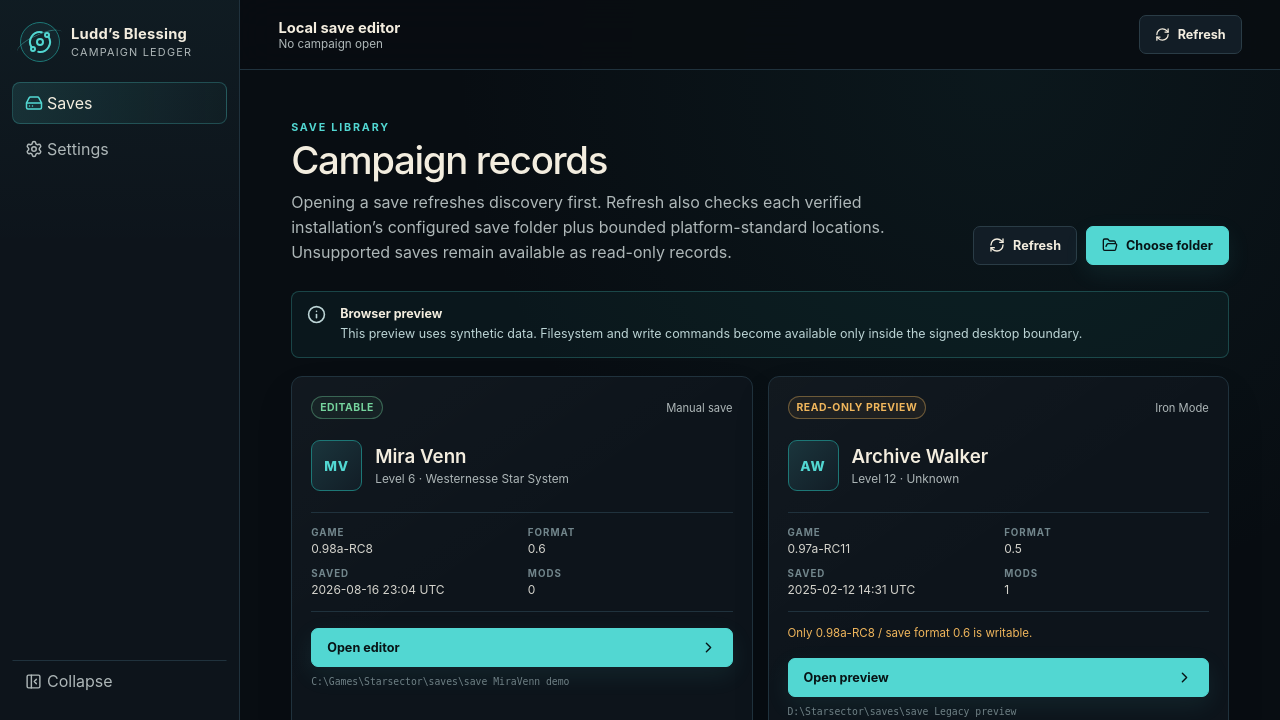
Test: Ludd’s Blessing app shell › focuses colonies on editable holdings and reviews a storage-stack change
Click the button "Open editor" at (363, 648), box top-left (311, 628), bottom-right (732, 667)
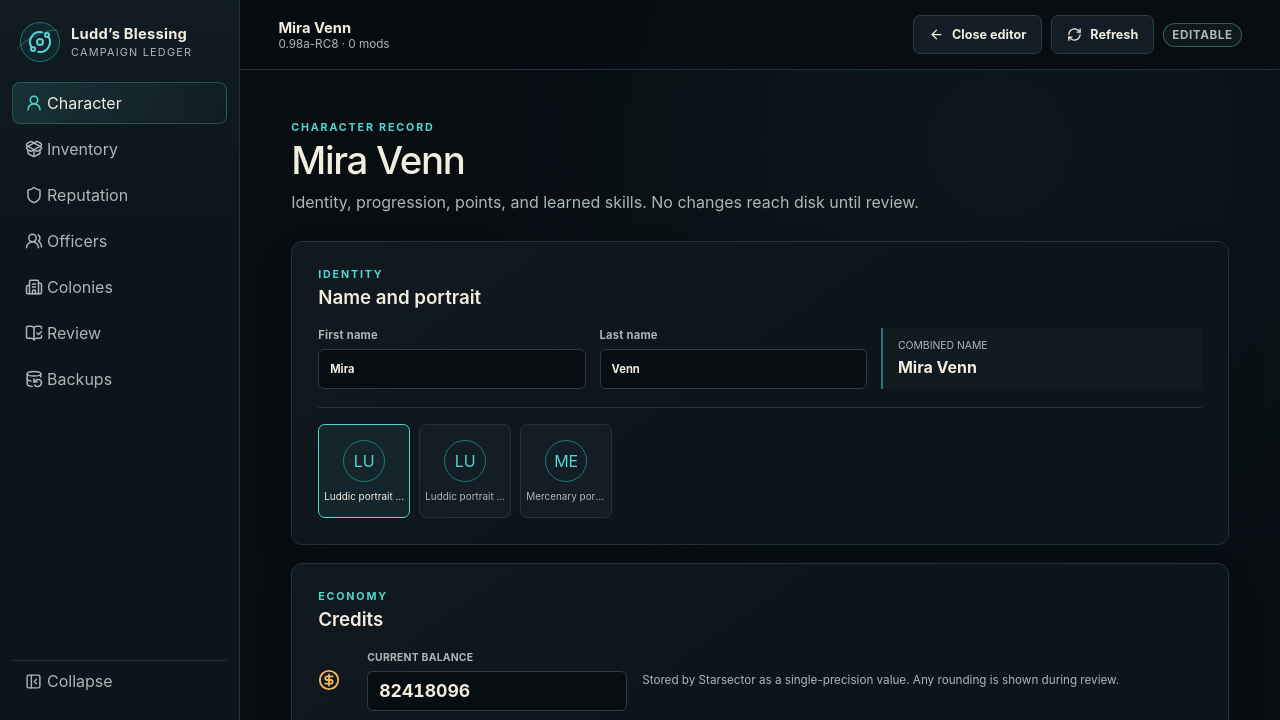
Expected: the heading "Name and portrait" is shown, top-left (318, 286), bottom-right (481, 309)
Click the button "Colonies" at (120, 287), box top-left (12, 266), bottom-right (227, 308)
(page scrolled)
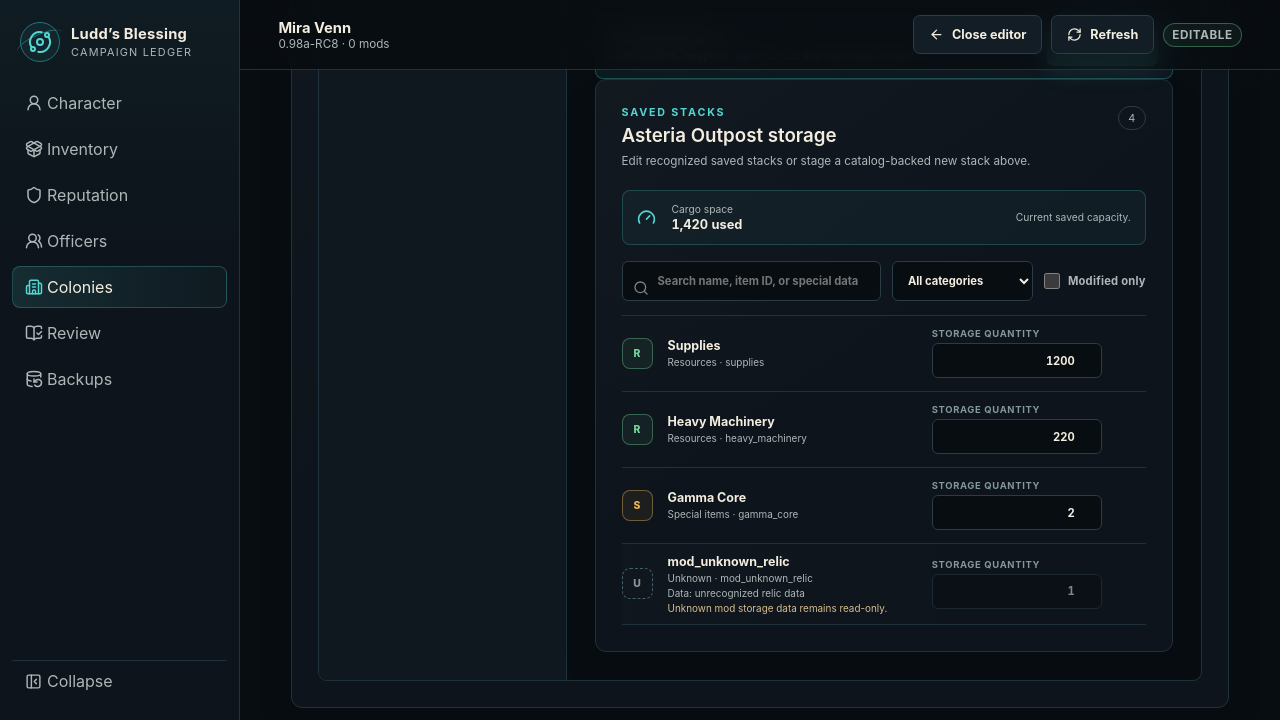
Replace the text in the number field named "Supplies quantity" with "1201" at (1017, 360), box top-left (932, 343), bottom-right (1102, 378)
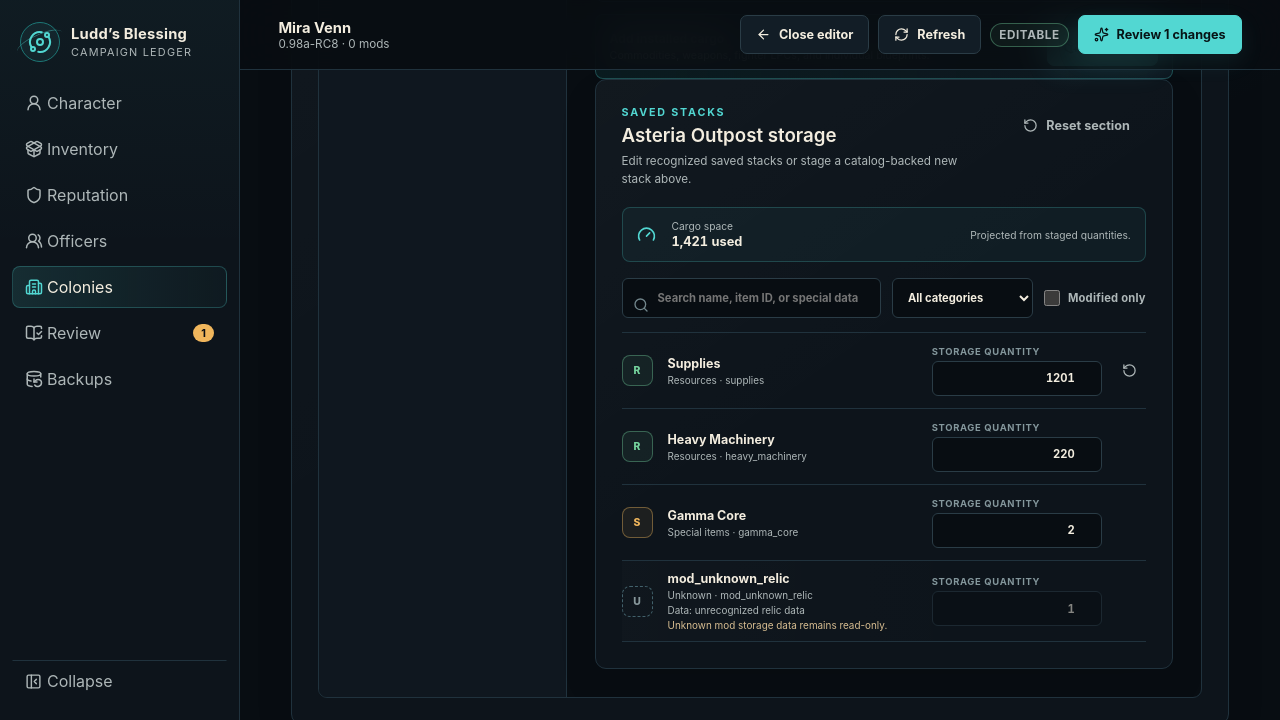
Click the button "Review 1 changes" at (1160, 34), box top-left (1078, 15), bottom-right (1242, 54)
(page scrolled)
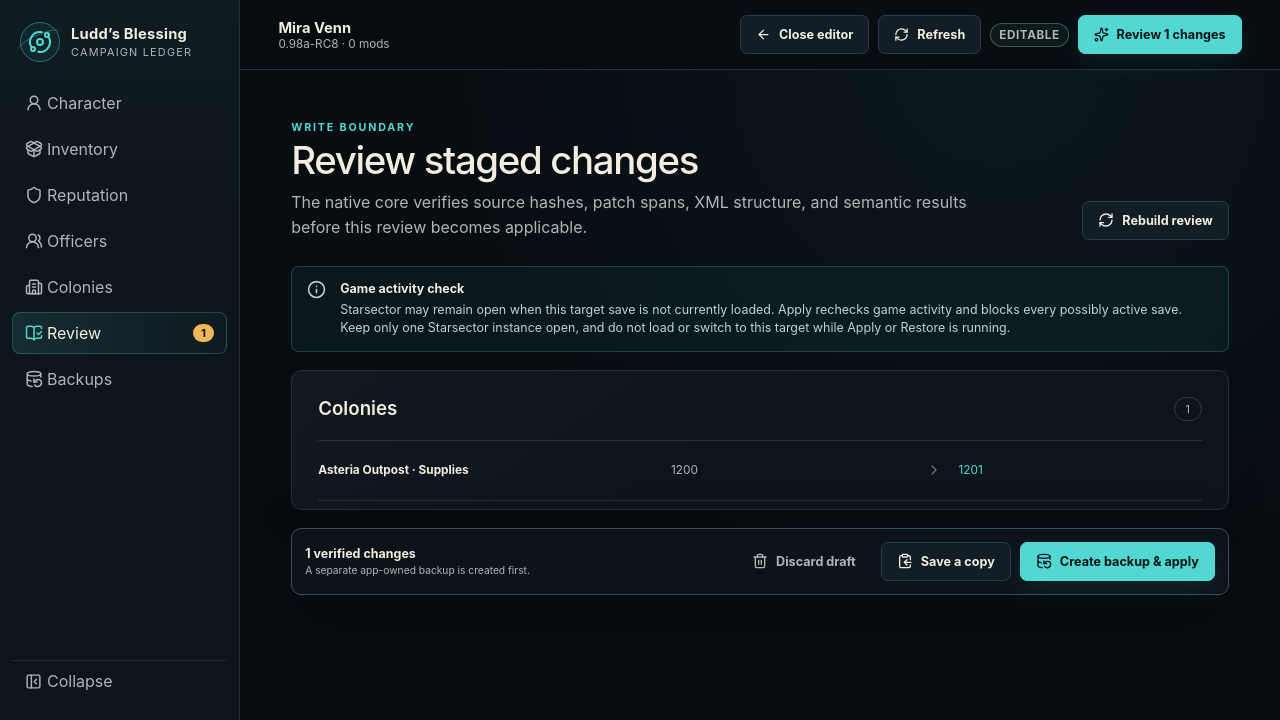
Expected: the heading "Review staged changes" is shown, top-left (291, 137), bottom-right (698, 183)
Expected: the element "Colonies" is shown, top-left (291, 370), bottom-right (1229, 510)
Expected: the text "Asteria Outpost · Supplies" is shown, top-left (318, 463), bottom-right (469, 477)
